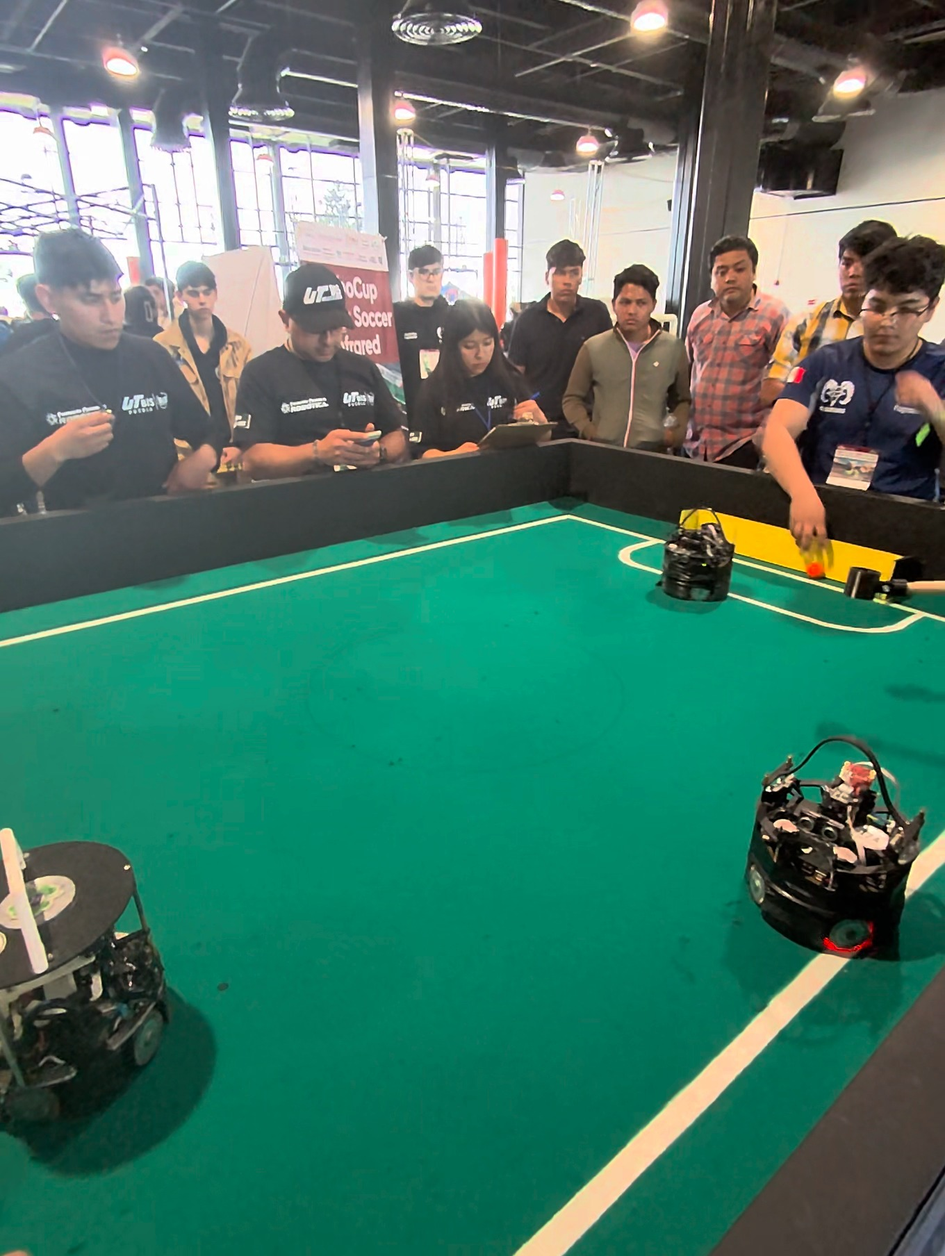Robot: (0, 804, 202, 1158), (748, 734, 936, 971), (655, 504, 742, 614), (878, 0, 945, 98)
pelota: (790, 560, 841, 593)
